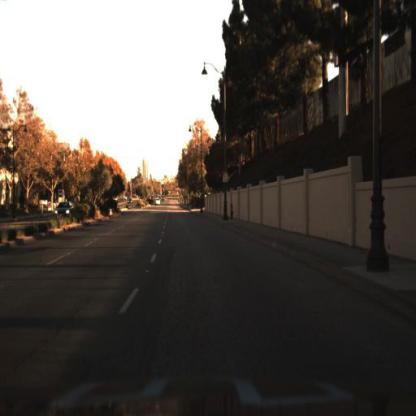car: (51, 201, 71, 221), (151, 193, 163, 211)
